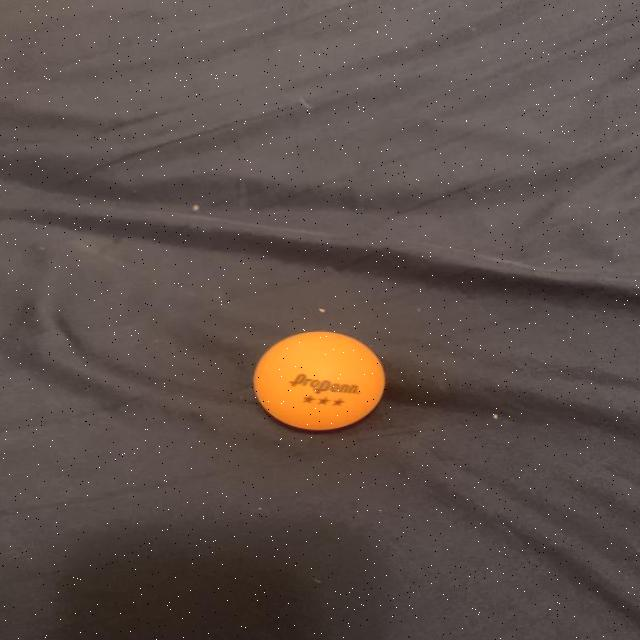ping-pong-ball: (245, 322, 392, 438)
